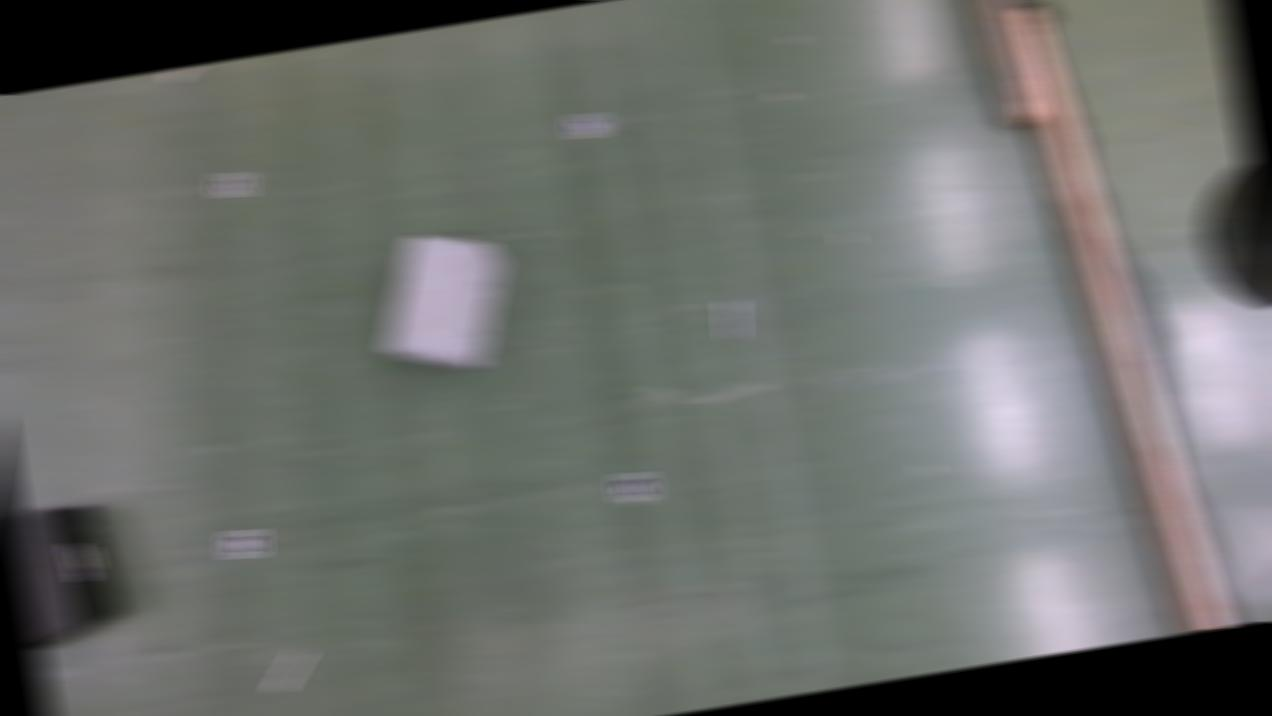probes: (266, 650, 314, 694), (718, 300, 746, 344)
rako: (367, 224, 520, 386), (11, 499, 127, 650)
